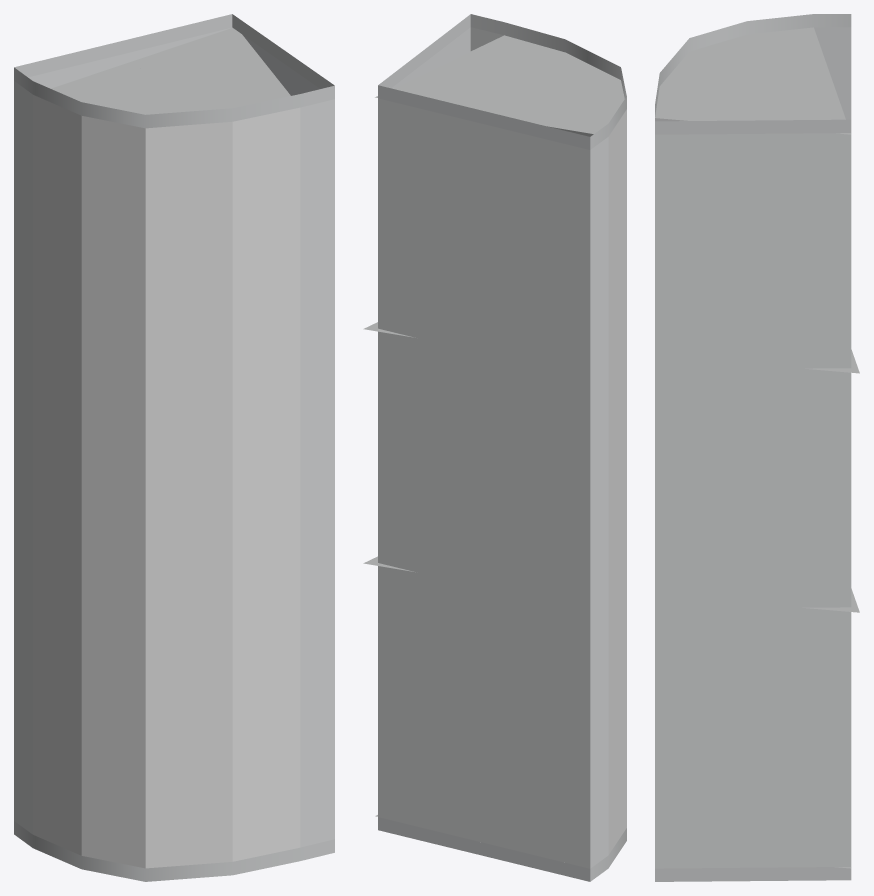
The model's file is M_qiangjiaogui01.FBX.
The picture shows the model from 3 angles, left to right: view 1: azimuth 30°, elevation 25°; view 2: azimuth 150°, elevation 25°; view 3: azimuth 270°, elevation 25°; orthographic projection. The views are drawn at different scales.
Parts seen in each view (by area): view 1: M_qiangjiaogui01_02, M_qiangjiaogui01_01; view 2: M_qiangjiaogui01_01, M_qiangjiaogui01_02; view 3: M_qiangjiaogui01_01.
Part boxes in pixels (x1,y1,x2,y2): M_qiangjiaogui01_02: (33,95,300,868); M_qiangjiaogui01_01: (14,14,334,881); M_qiangjiaogui01_01: (363,14,626,881); M_qiangjiaogui01_02: (608,109,626,854); M_qiangjiaogui01_01: (655,14,859,881).
Size of the model in its own units: 1.24 by 3.97 by 0.969.
